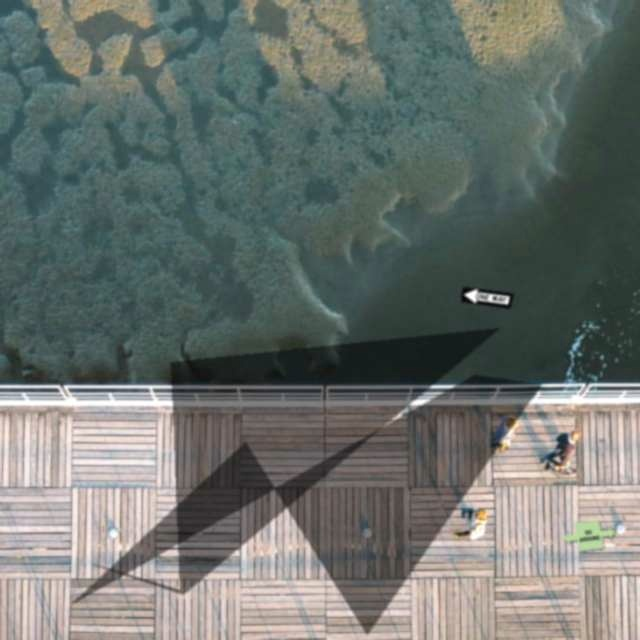GO_AROUND: (562, 519, 616, 552)
ONE_WAY_ left: (460, 286, 514, 309)
